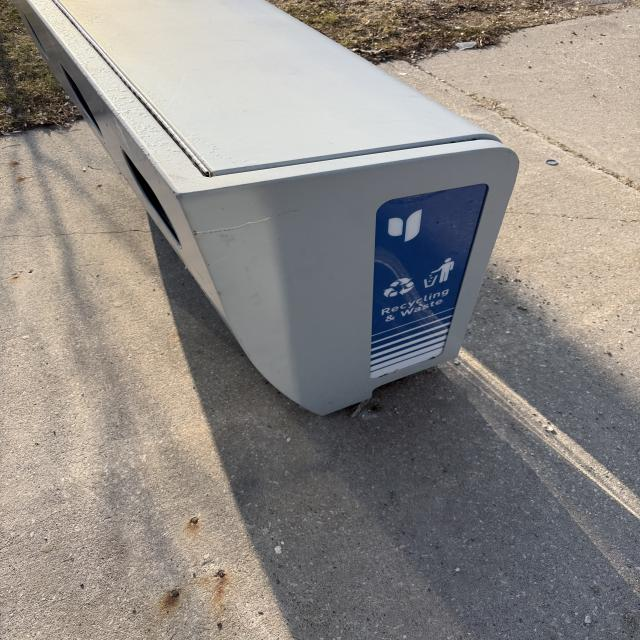Dustbin: (19, 1, 520, 417)
